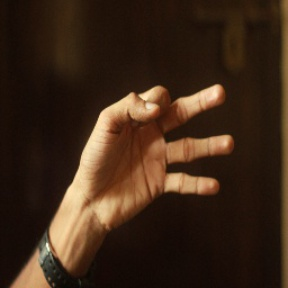K: (78, 81, 240, 216)
